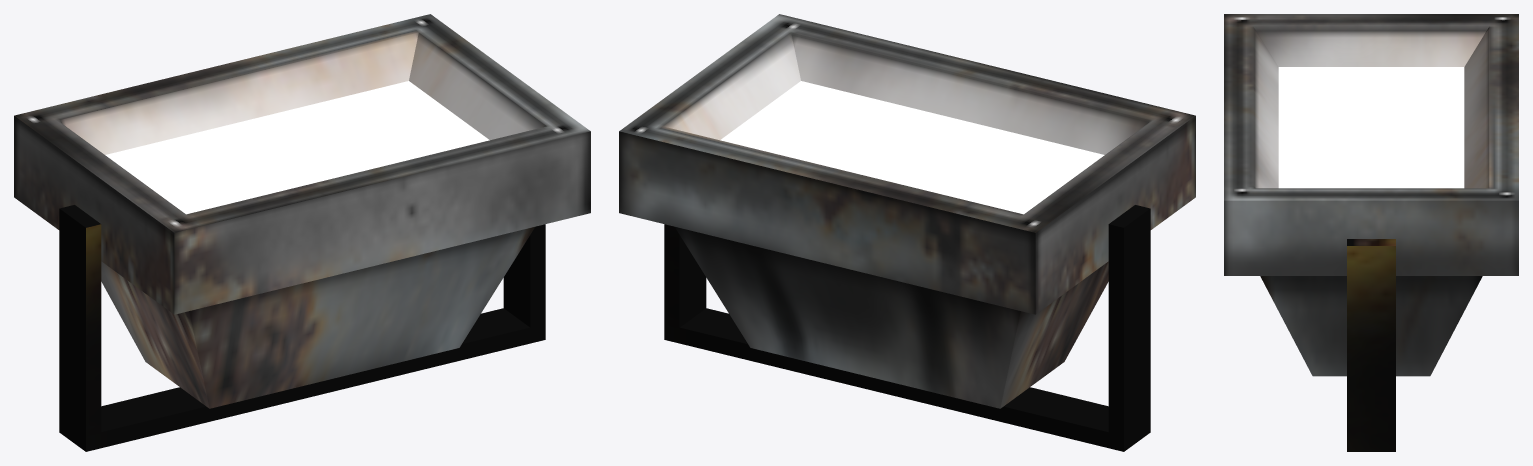
Rendered from FloodLight_ALL.FBX.
3 renders of one model, left to right at view 1: azimuth 30°, elevation 25°; view 2: azimuth 150°, elevation 25°; view 3: azimuth 270°, elevation 25°, orthographic. The views are drawn at different scales.
Visible parts, largest first — view 1: FloodLight_LOD0, Source, Yoke_LOD0; view 2: FloodLight_LOD0, Source, Yoke_LOD0; view 3: FloodLight_LOD0, Source, Yoke_LOD0.
Boxes of the visible parts, bbox=[...] form: FloodLight_LOD0: bbox=[14, 14, 590, 408]; Source: bbox=[105, 81, 489, 214]; Yoke_LOD0: bbox=[59, 205, 545, 451]; FloodLight_LOD0: bbox=[619, 14, 1195, 408]; Source: bbox=[720, 81, 1104, 214]; Yoke_LOD0: bbox=[664, 205, 1150, 451]; FloodLight_LOD0: bbox=[1224, 14, 1518, 376]; Source: bbox=[1278, 67, 1464, 188]; Yoke_LOD0: bbox=[1347, 239, 1395, 451].
Size of what is drawn, in the model's own units: 441 by 241 by 266.
